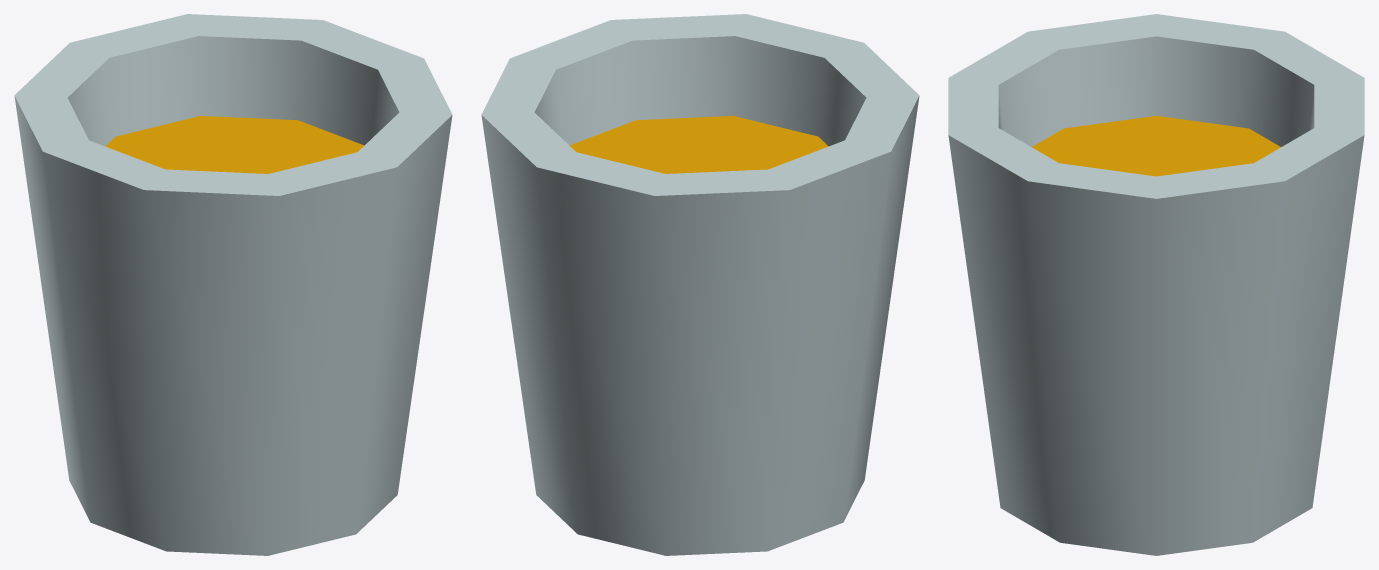
Rendered from Vaso de jugo.fbx.
3 renders of one model, left to right at view 1: azimuth 30°, elevation 25°; view 2: azimuth 150°, elevation 25°; view 3: azimuth 270°, elevation 25°, orthographic.
Parts seen in each view (by area): view 1: Cristal, Jugo; view 2: Cristal, Jugo; view 3: Cristal, Jugo.
Part boxes in pixels (x1,y1,x2,y2): Cristal: [14, 14, 452, 555]; Jugo: [105, 116, 364, 173]; Cristal: [481, 14, 919, 555]; Jugo: [569, 116, 828, 173]; Cristal: [948, 14, 1364, 555]; Jugo: [1032, 115, 1280, 176].
Size of the model in its own units: 15.81 by 15.16 by 15.04.
